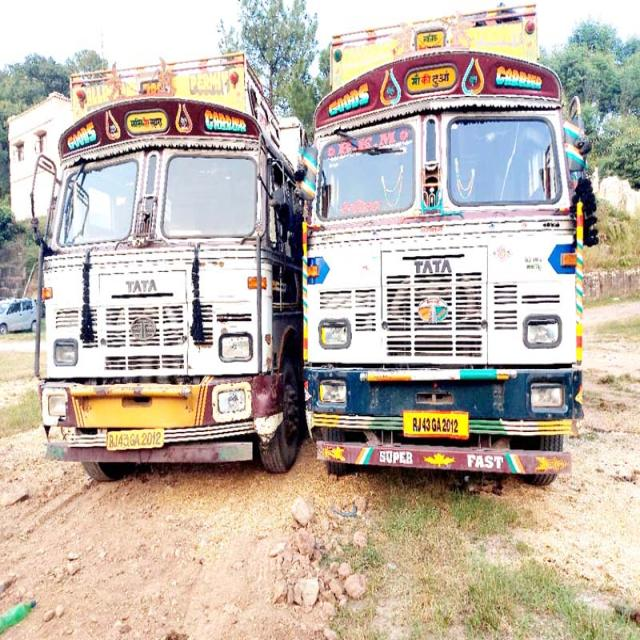plate: (404, 412, 469, 444), (105, 428, 166, 451)
